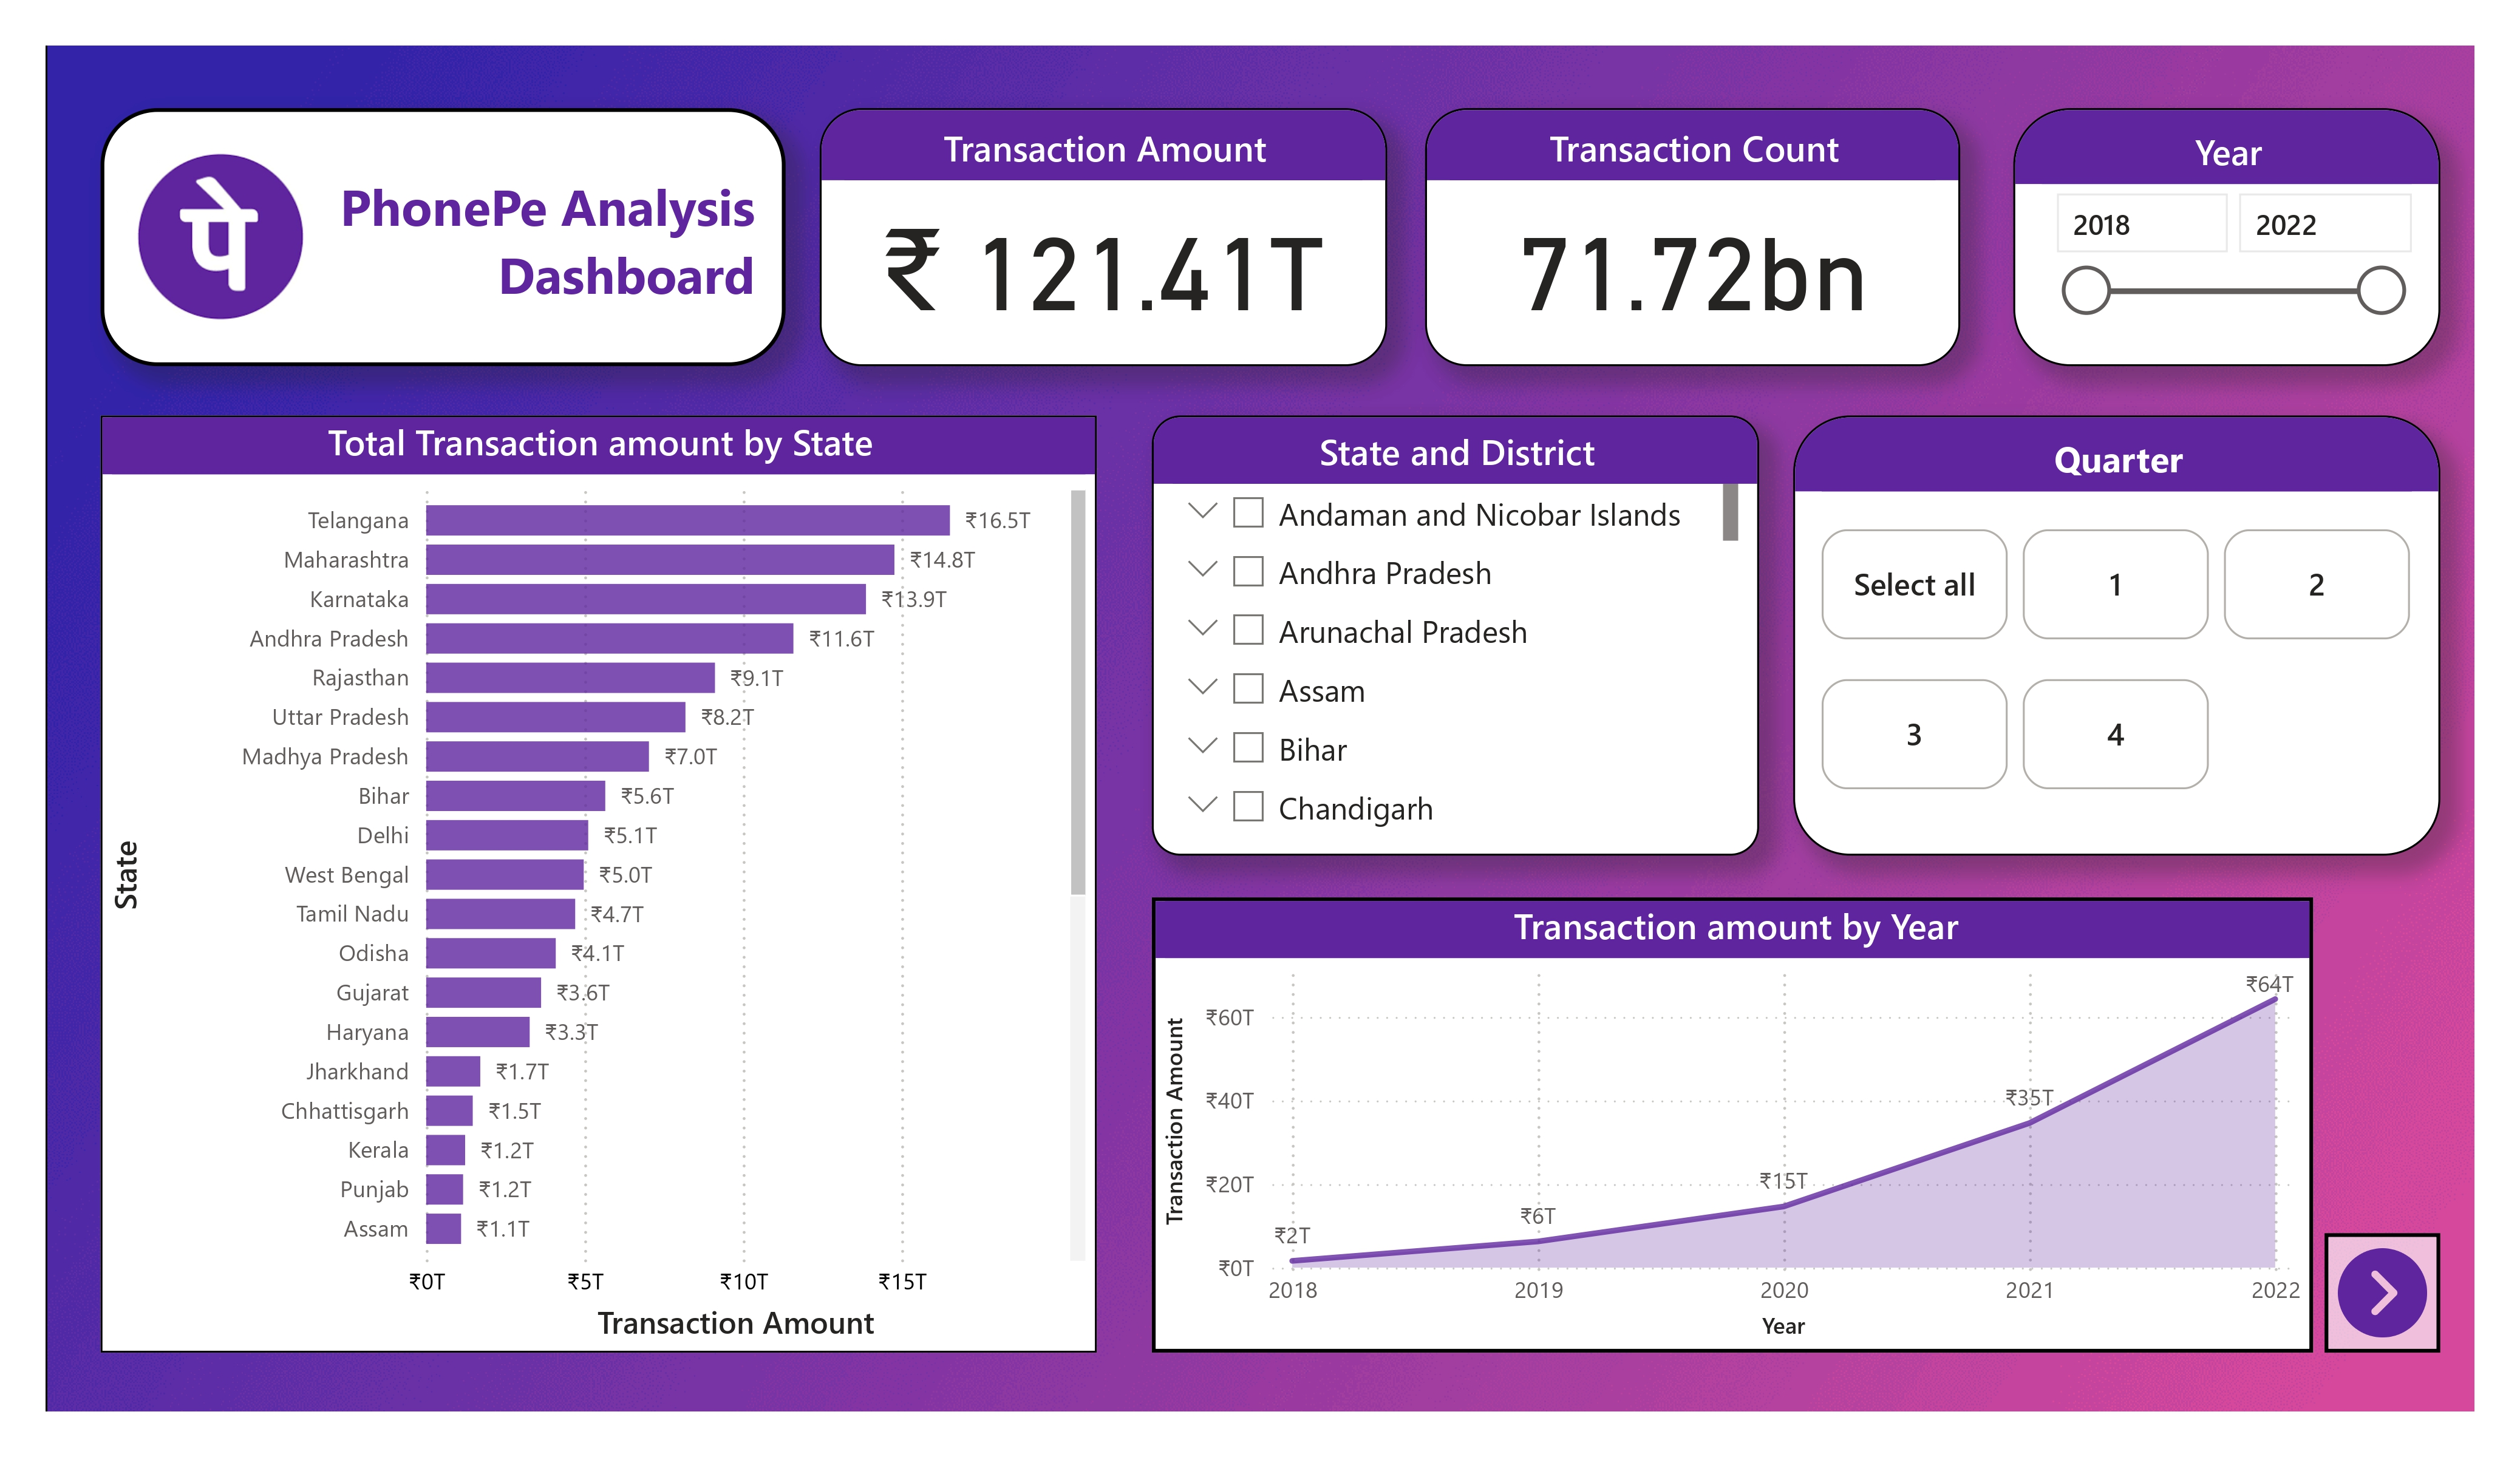

Layout of this report page (visuals, bound fields, positions):
{"tool":"powerbi","page":{"name":"Page 1","canvas":[1280,720],"ordinal":0},"visuals":[{"type":"textbox","box":[28.8,32.9,360.9,135.8],"z":0,"group":"g1"},{"type":"image","box":[41.4,46.7,101.5,107],"z":1000,"group":"g1"},{"type":"advancedSlicerVisual","fields":{"Values":["agg_trans.Quarter"]},"box":[920.8,194.9,341.7,231.9],"z":1000},{"type":"barChart","title":"Total Transaction amount by State","fields":{"Category":["agg_trans.State"],"Y":["Sum(agg_trans.Transaction_amount)"]},"box":[28.8,194.9,525.6,494],"z":2000},{"type":"card","title":"Transaction Amount","fields":{"Values":["Sum(agg_trans.Transaction_amount)"]},"box":[407.5,32.9,299.1,135.8],"z":3000},{"type":"card","title":"Transaction Count","fields":{"Values":["Sum(agg_trans.Transaction_count)"]},"box":[727.3,32.9,281.3,135.8],"z":4000},{"type":"slicer","title":"State and District","fields":{"Values":["map_trans.State","map_trans.District"]},"box":[583.2,194.9,319.7,231.9],"z":6000},{"type":"slicer","title":"Year","fields":{"Values":["agg_trans.Year"]},"box":[1037.4,32.9,225,135.8],"z":8000},{"type":"lineChart","title":"Transaction amount by Year","fields":{"Category":["agg_trans.Year"],"Y":["Sum(agg_trans.Transaction_amount)"]},"box":[583.2,448.7,612,240.1],"z":9000},{"type":"group","id":"g1","title":"Group 1","box":[28.8,32.9,360.9,135.8],"z":10000},{"type":"image","box":[1200.7,625.7,61.7,63.1],"z":11001}]}

Visuals, with their boxes in screenshot pixels (x1, y1, x2, y2):
textbox: [x1=100, y1=108, x2=785, y2=365]
image: [x1=124, y1=134, x2=317, y2=337]
advancedSlicerVisual - agg_trans.Quarter: [x1=1793, y1=415, x2=2441, y2=855]
"Total Transaction amount by State" barChart: [x1=100, y1=415, x2=1098, y2=1353]
"Transaction Amount" card: [x1=819, y1=108, x2=1386, y2=365]
"Transaction Count" card: [x1=1426, y1=108, x2=1960, y2=365]
"State and District" slicer: [x1=1153, y1=415, x2=1759, y2=855]
"Year" slicer: [x1=2014, y1=108, x2=2441, y2=365]
"Transaction amount by Year" lineChart: [x1=1153, y1=897, x2=2314, y2=1353]
"Group 1" group: [x1=100, y1=108, x2=785, y2=365]
image: [x1=2324, y1=1232, x2=2441, y2=1353]
